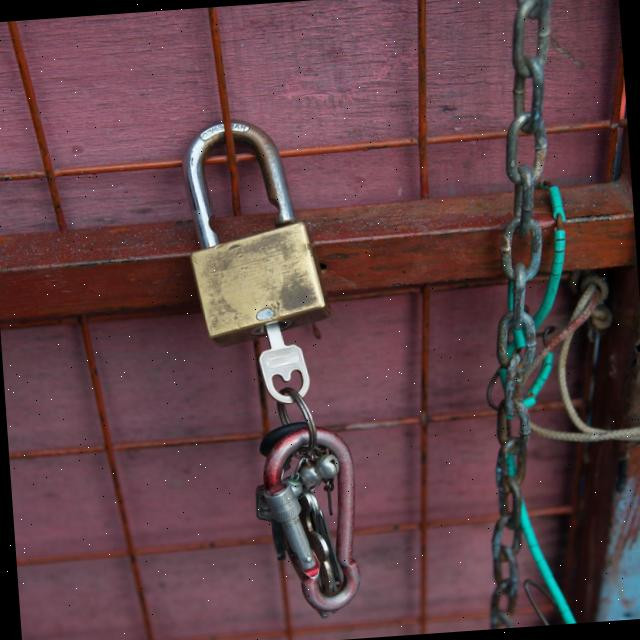Frontdoor keys: (230, 315, 318, 412)
